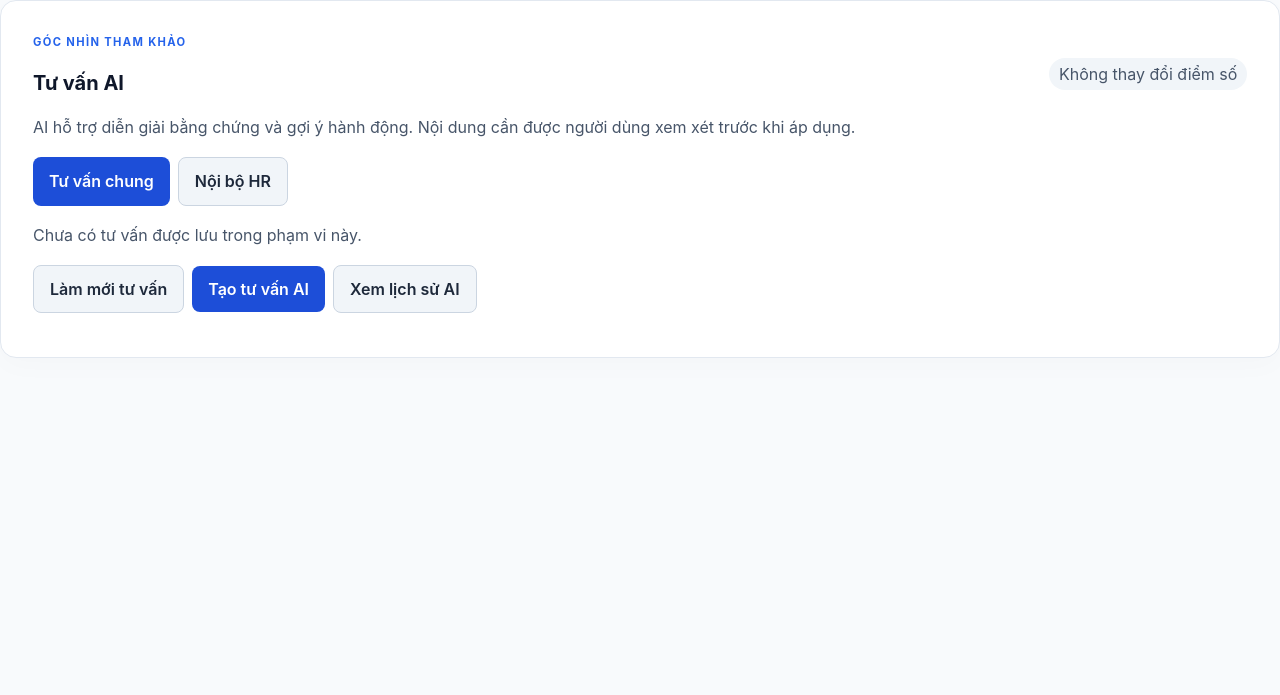
Test case: renders provider text as text and removes private content after a role change
The width and height of the screenshot is (1280, 695).
Click the button "Nội bộ HR" at (233,181), box [178,157,288,206]
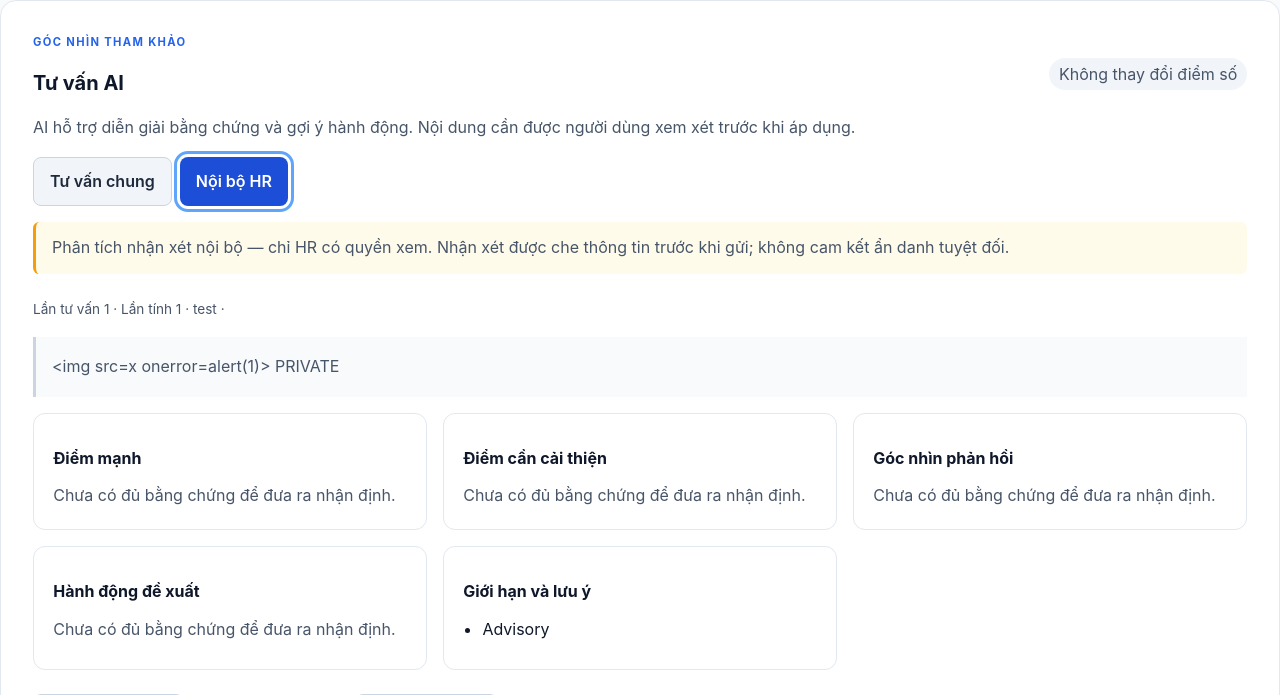
expect the text "<img src=x onerror=alert(1)> PRIVATE" is shown: met, box [33,338,1247,397]
